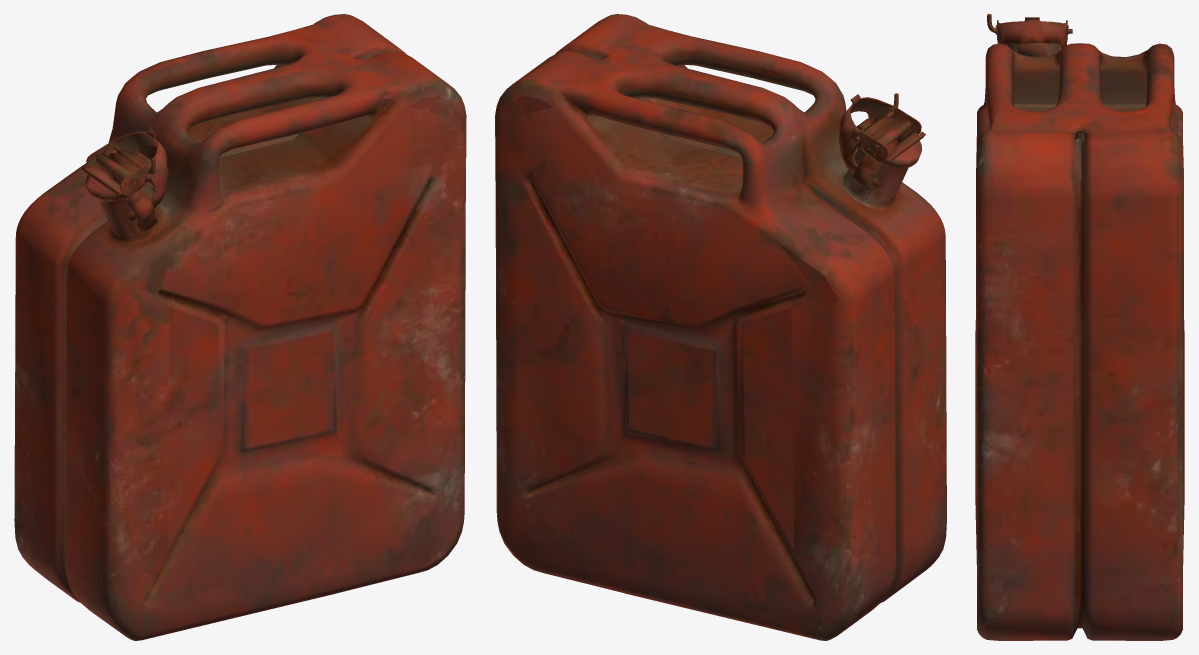
File: metal_jerrycan.glb
3 views of the same model, side by side, from view 1: azimuth 30°, elevation 25°; view 2: azimuth 150°, elevation 25°; view 3: azimuth 270°, elevation 25° (orthographic). The views are drawn at different scales.
Parts seen in each view (by area): view 1: metal_jerrycan; view 2: metal_jerrycan; view 3: metal_jerrycan.
Part boxes in pixels (x1=…): metal_jerrycan: x1=14, y1=14, x2=466, y2=640; metal_jerrycan: x1=495, y1=14, x2=946, y2=640; metal_jerrycan: x1=975, y1=14, x2=1184, y2=640.
Bounding box in the file's own units: 0.3503 × 0.455 × 0.1719.
Materials: 1 (1 with a texture image).
